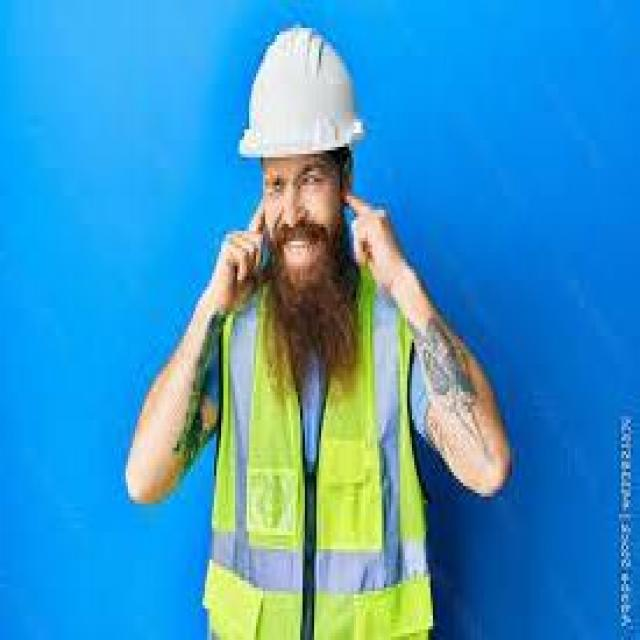Reflective-Jacket: (200, 259, 440, 636)
Safety-Helmet: (235, 17, 365, 172)
